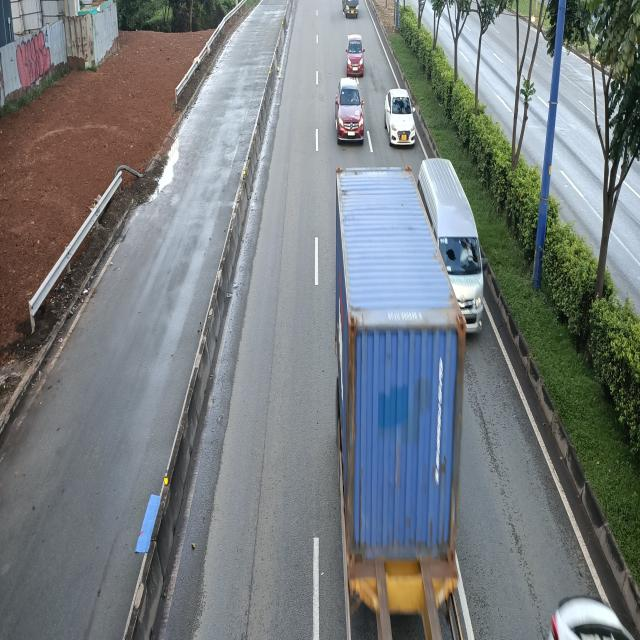car: (335, 80, 366, 147), (384, 87, 416, 147), (346, 33, 366, 76)
container: (333, 172, 468, 640)
van: (422, 157, 488, 336)
